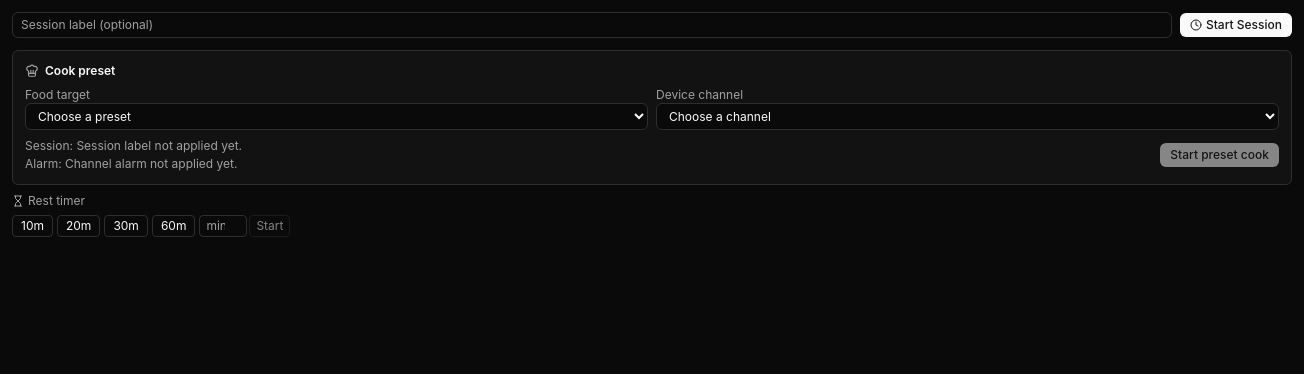
Test: SessionControls › inactive state › cook presets › starts a preset cook by creating the session label and setting the selected channel alarm
This screenshot has width=1304, height=374.
Select "Pork - Pulled Pork (Tender) - 203°F" in the dropdown named "Cook preset" at coordinates (336, 116), box top-left (25, 103), bottom-right (648, 130)
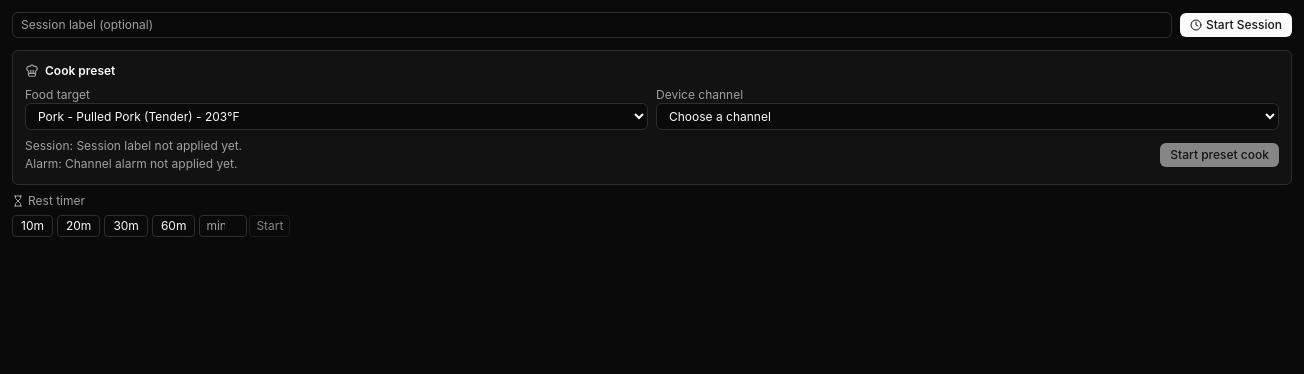
Select "Probe scriptalert(1)/script (°F)" in the dropdown named "Preset channel" at coordinates (968, 116), box top-left (656, 103), bottom-right (1279, 130)
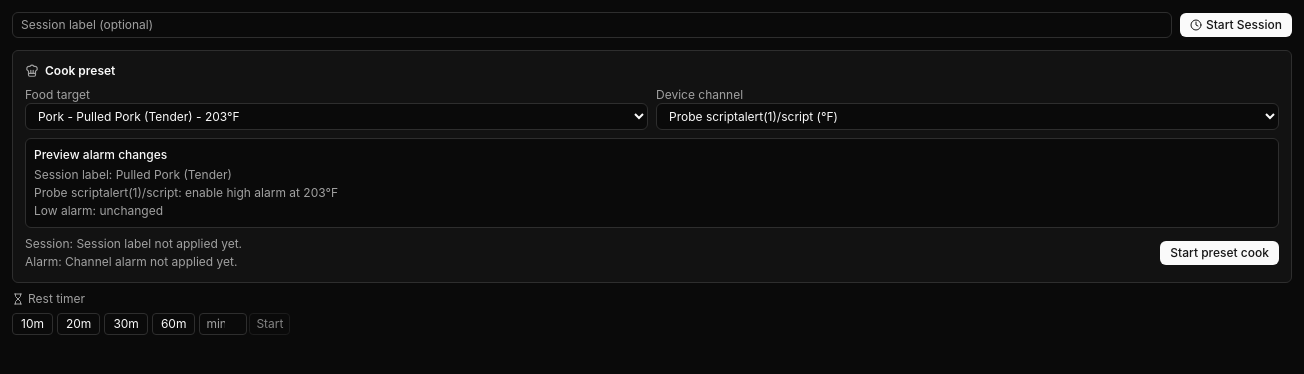
Click the button "Start preset cook" at coordinates (1220, 253), box top-left (1160, 241), bottom-right (1279, 265)
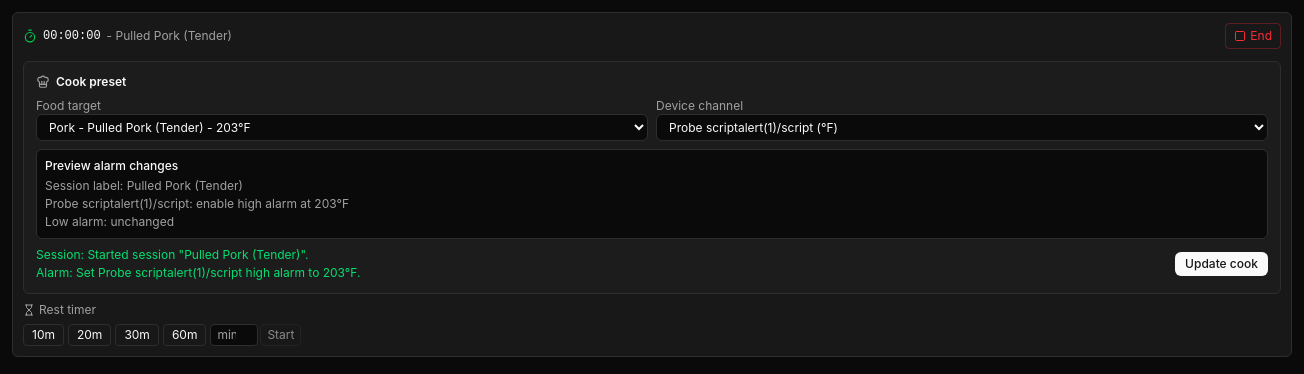
expect the text "Session: Started session \"Pulled Pork (Tender)\"." is shown: met, box top-left (36, 247), bottom-right (308, 262)
expect the text "Alarm: Set Probe scriptalert(1)/script high alarm to 203°F." is shown: met, box top-left (36, 265), bottom-right (360, 281)
